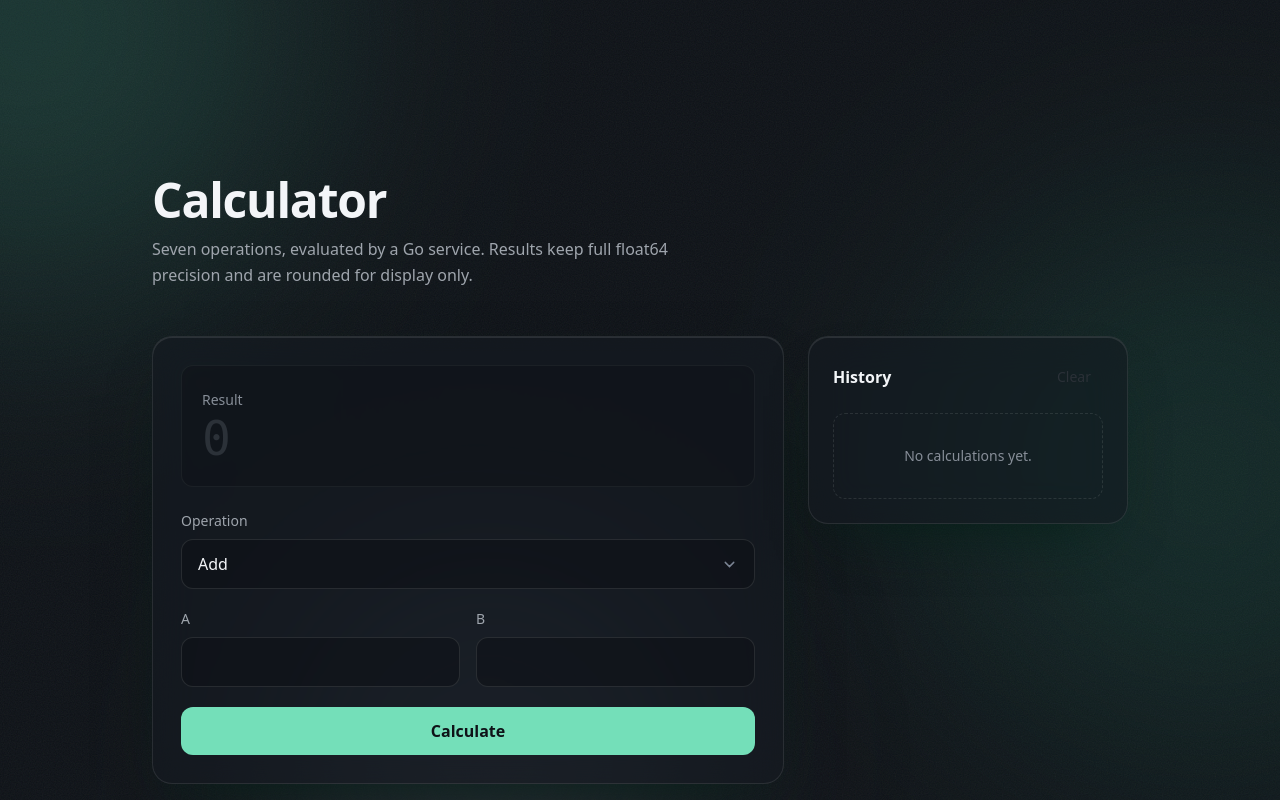
Test case: App › then renders the formatted result after a successful calculation
Type "0.1" into the field labelled "A" at (320, 662), box [181, 637, 460, 687]
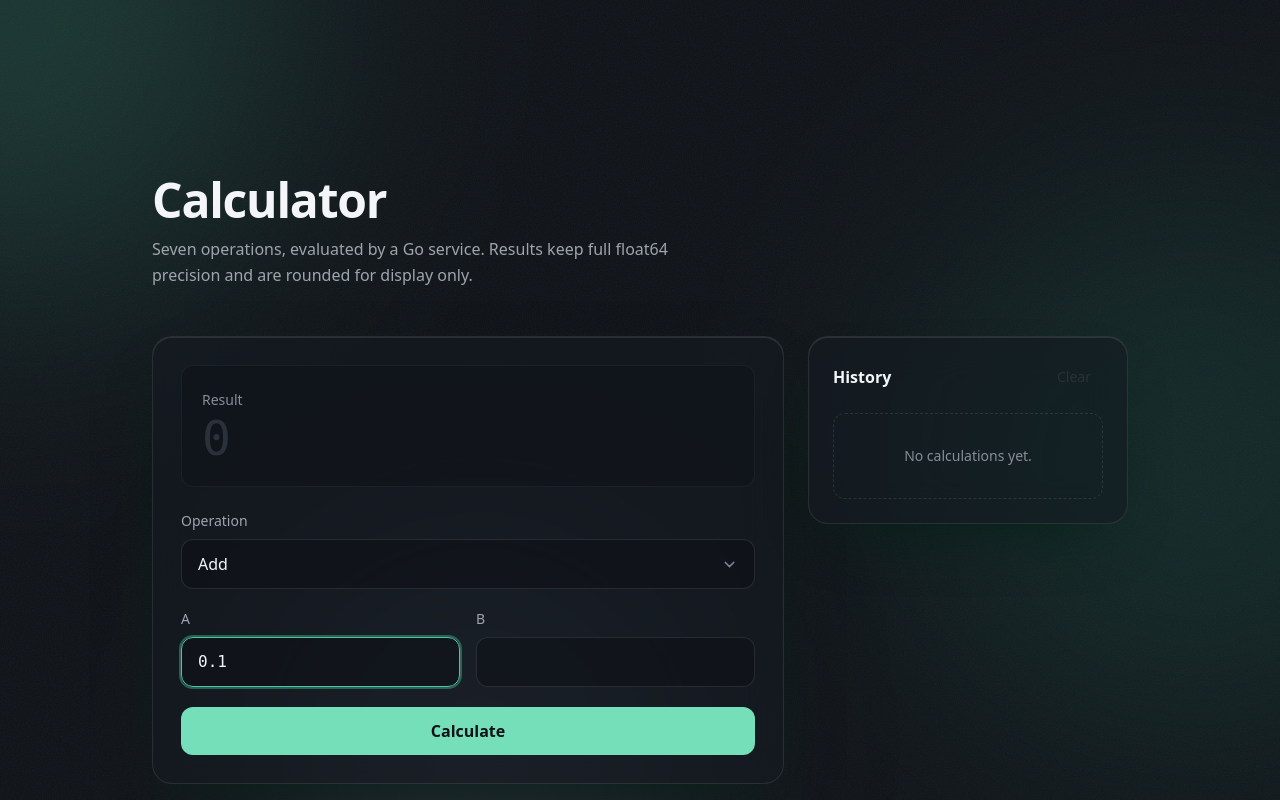
Type "0.2" into the field labelled "B" at (616, 662), box [476, 637, 755, 687]
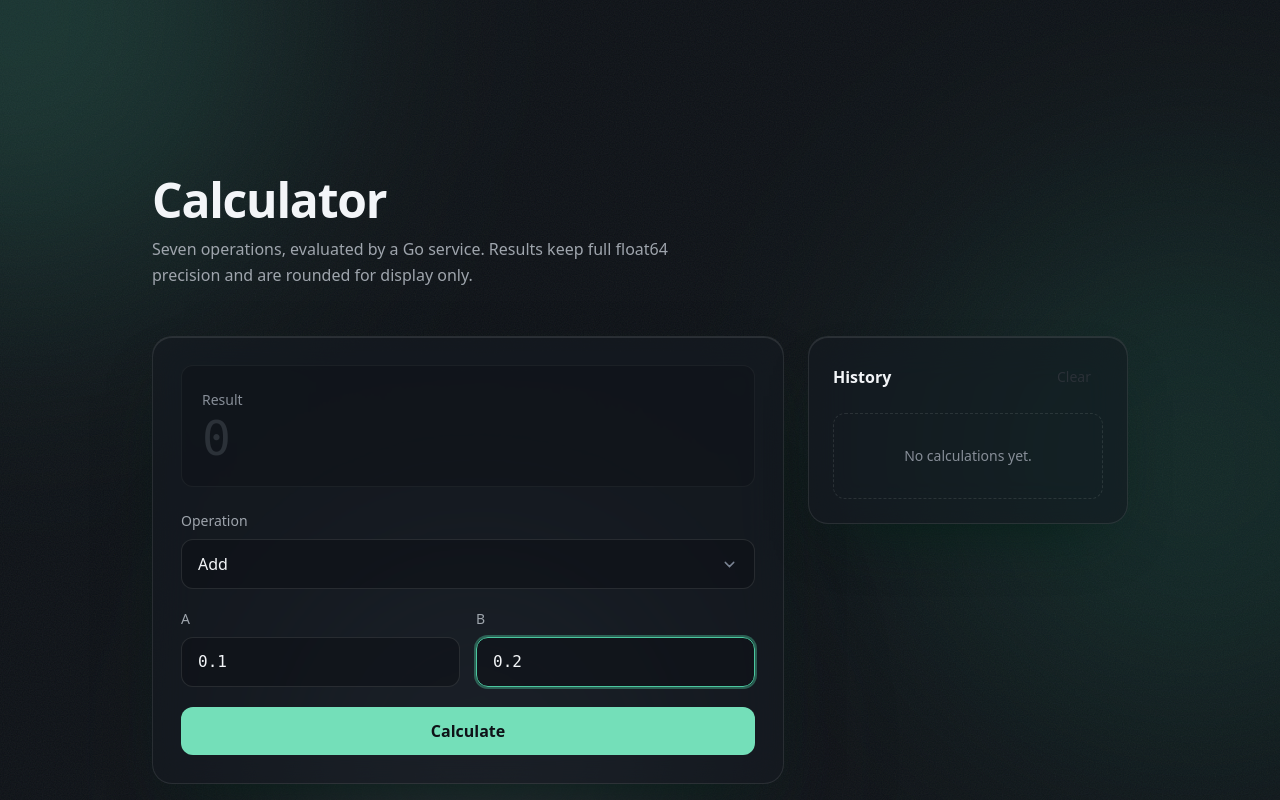
Click the button "Calculate" at (468, 731), box [181, 707, 755, 755]
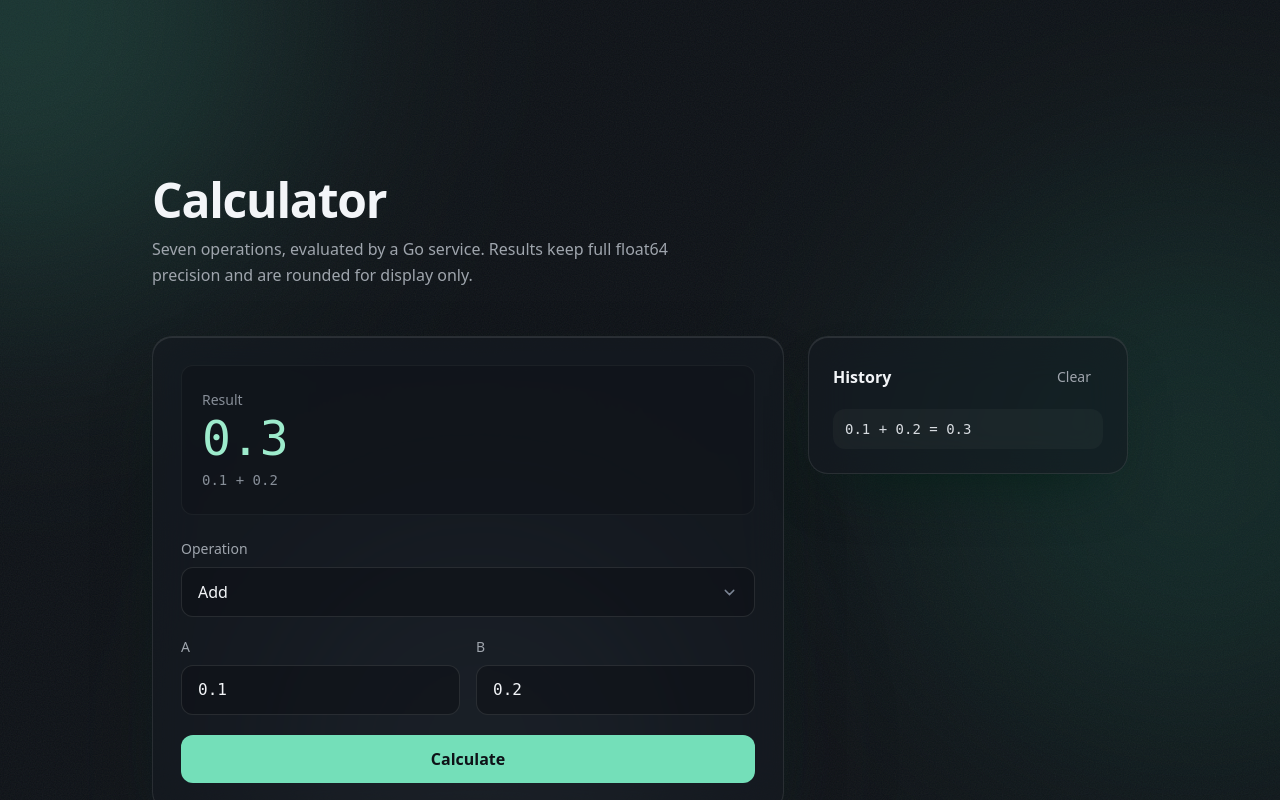
Check: the text "0.3" is shown, box [202, 410, 289, 466]
